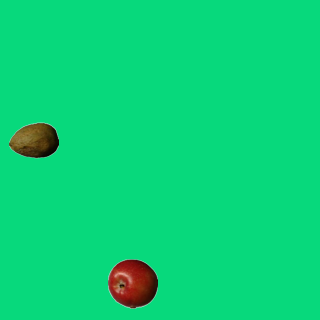Apple Braeburn: (107, 258, 157, 308)
Papaya: (8, 115, 58, 165)
